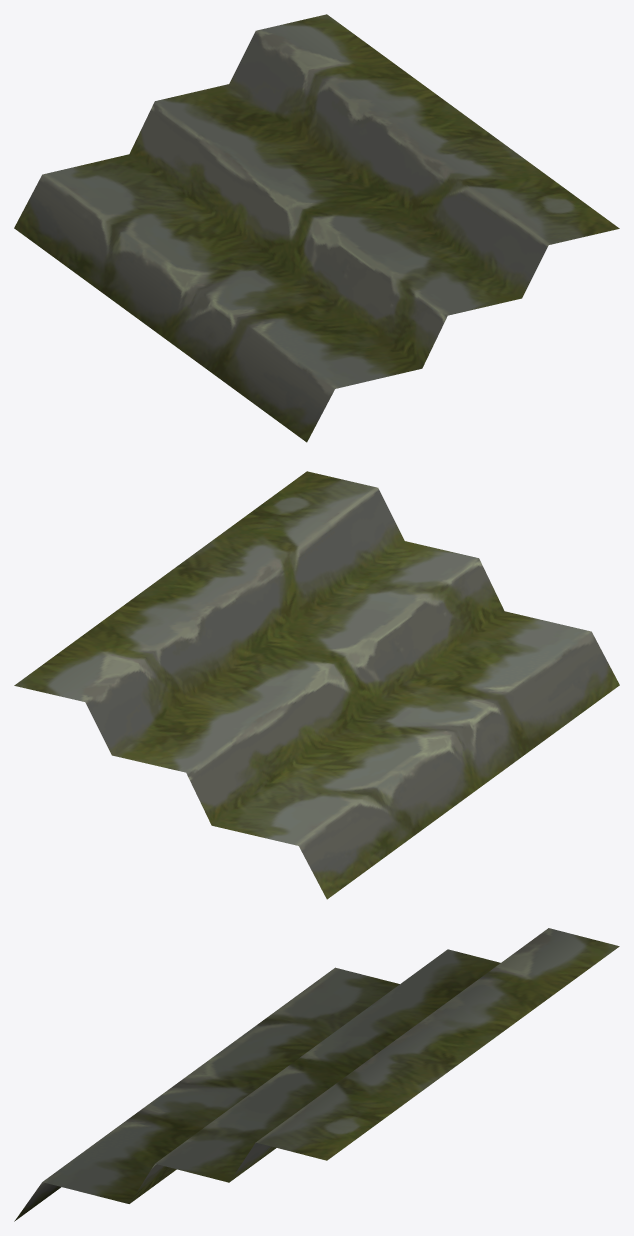
Rendered from yw_shanlin_stonesteps_001.FBX.
The picture shows the model from 3 angles, top to bottom: view 1: azimuth 30°, elevation 25°; view 2: azimuth 150°, elevation 25°; view 3: azimuth 330°, elevation 25°; orthographic projection.
Parts seen in each view (by area): view 1: yw_shanlin_stonesteps_001; view 2: yw_shanlin_stonesteps_001; view 3: yw_shanlin_stonesteps_001.
Boxes of the visible parts, x1,y1,x2,y2 form: yw_shanlin_stonesteps_001: (14, 14, 619, 442); yw_shanlin_stonesteps_001: (14, 471, 619, 899); yw_shanlin_stonesteps_001: (14, 928, 619, 1221).
Bounding box in the file's own units: 283 × 458 × 120.
